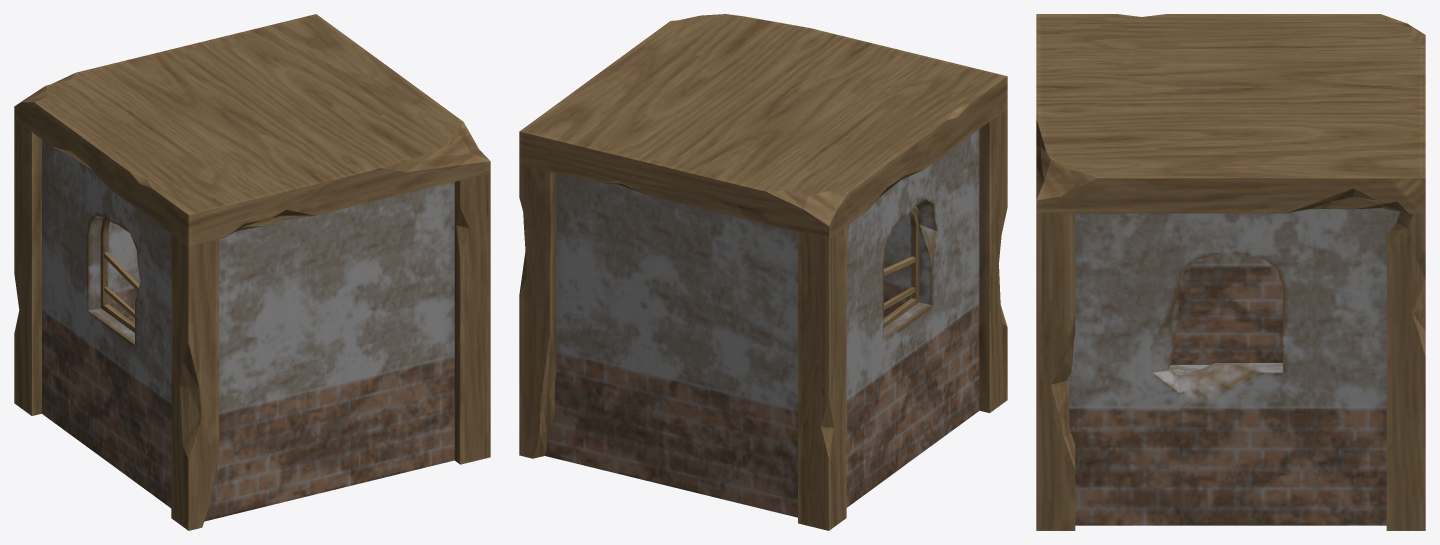
File: sb_obj_outdoor029_house01_wall01_ruins.fbx
3 renders of one model, left to right at view 1: azimuth 30°, elevation 25°; view 2: azimuth 150°, elevation 25°; view 3: azimuth 270°, elevation 25°, orthographic. The views are drawn at different scales.
Visible parts, largest first — view 1: sb_obj_outdoor029_house01_wall01_ruins; view 2: sb_obj_outdoor029_house01_wall01_ruins; view 3: sb_obj_outdoor029_house01_wall01_ruins.
Part boxes in pixels (left/top/right/bottom): sb_obj_outdoor029_house01_wall01_ruins: left=14, top=14, right=490, bottom=530; sb_obj_outdoor029_house01_wall01_ruins: left=519, top=14, right=1007, bottom=530; sb_obj_outdoor029_house01_wall01_ruins: left=1036, top=14, right=1425, bottom=530.
Size of the model in its own units: 3 by 3 by 3.
